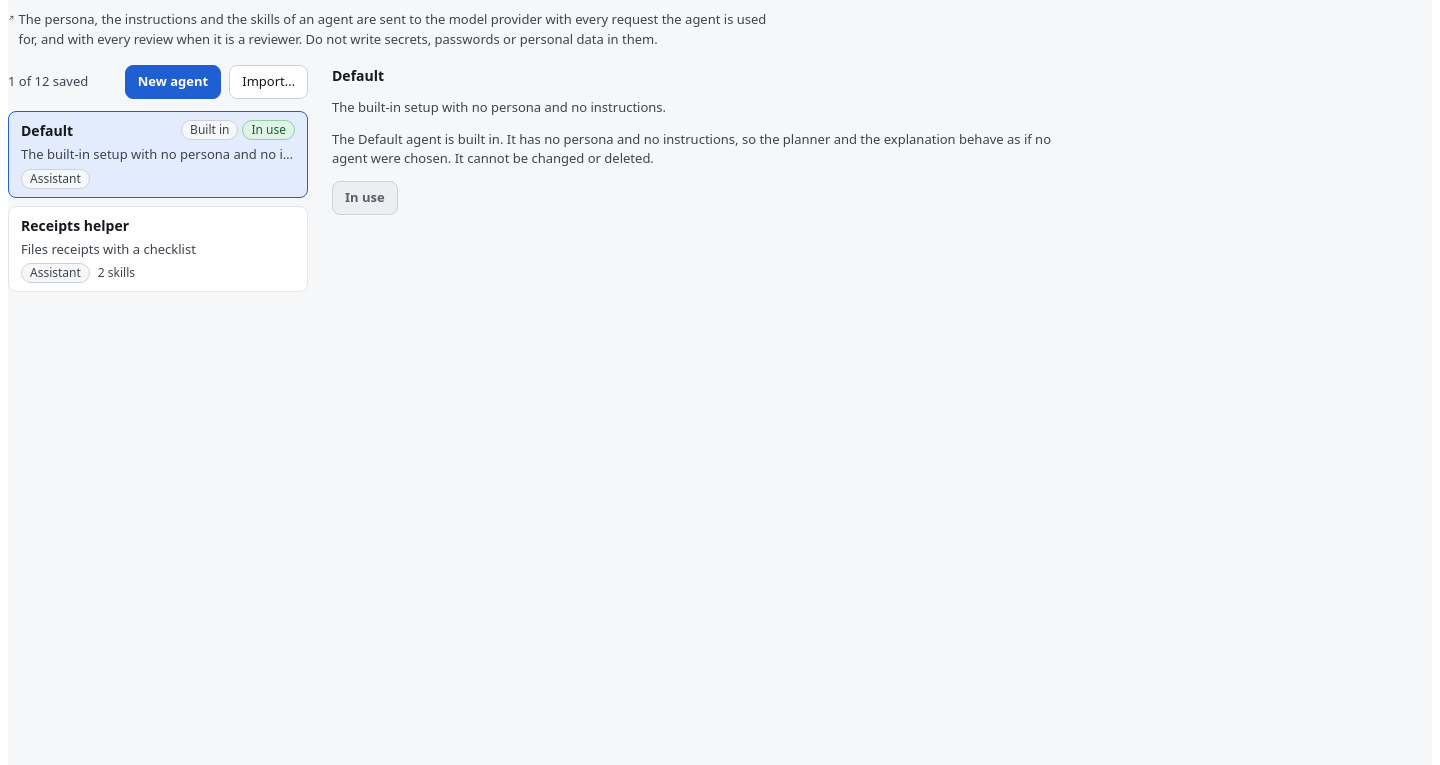
Test: the skills picker › lists every skill as a checkbox with its size, and checks the ones the agent has
Check: the list named "Agent list" is shown, box left=8, top=111, right=308, bottom=292
What coordinates should you click on to do the following:
click the button "Receipts helper"
I would click on:
 (158, 249)
Its box is left=8, top=206, right=308, bottom=292.
(page scrolled)
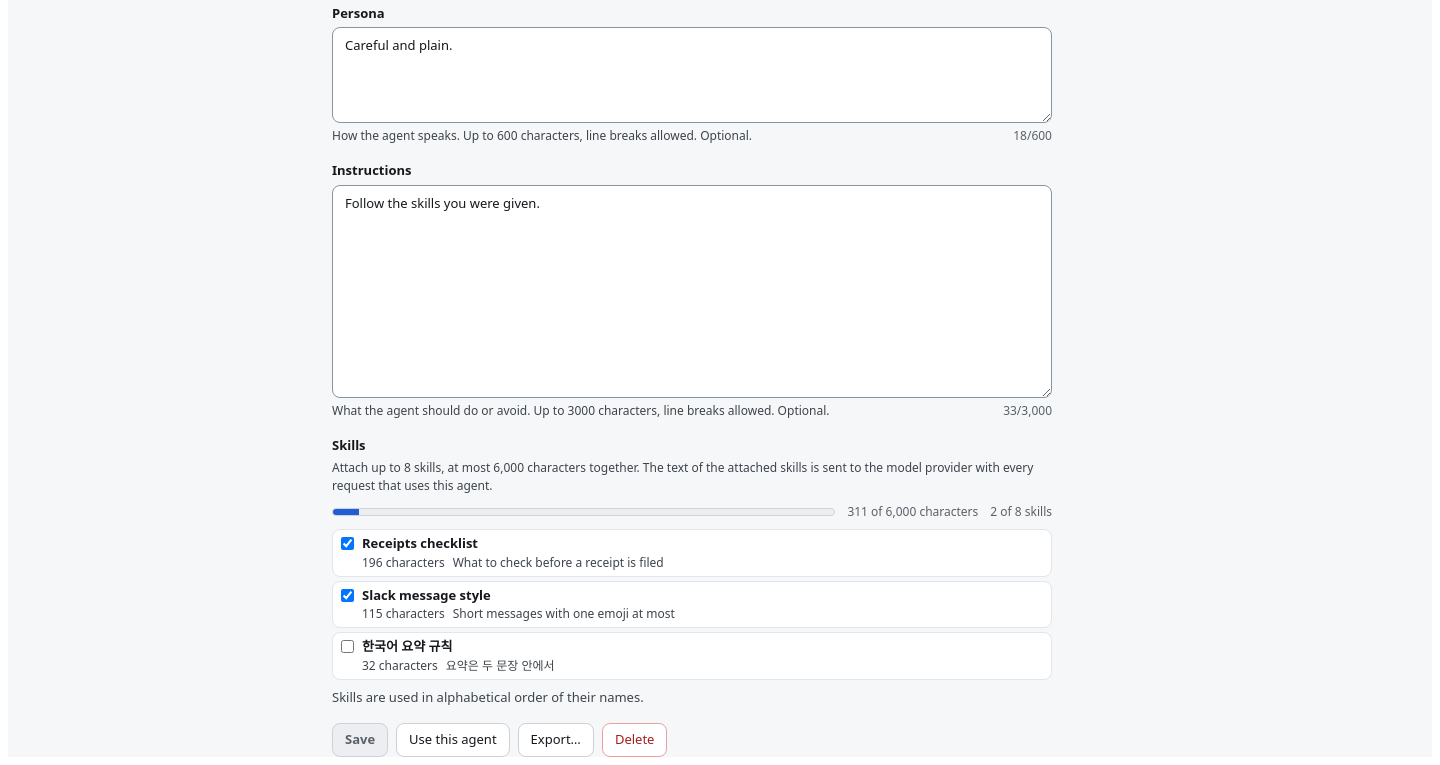
Check: the checkbox labelled "Receipts checklist" is checked, box left=341, top=537, right=354, bottom=550
Check: the checkbox labelled "Slack message style" is checked, box left=341, top=588, right=354, bottom=602
Check: the checkbox labelled "한국어 요약 규칙" is not checked, box left=341, top=640, right=354, bottom=653
